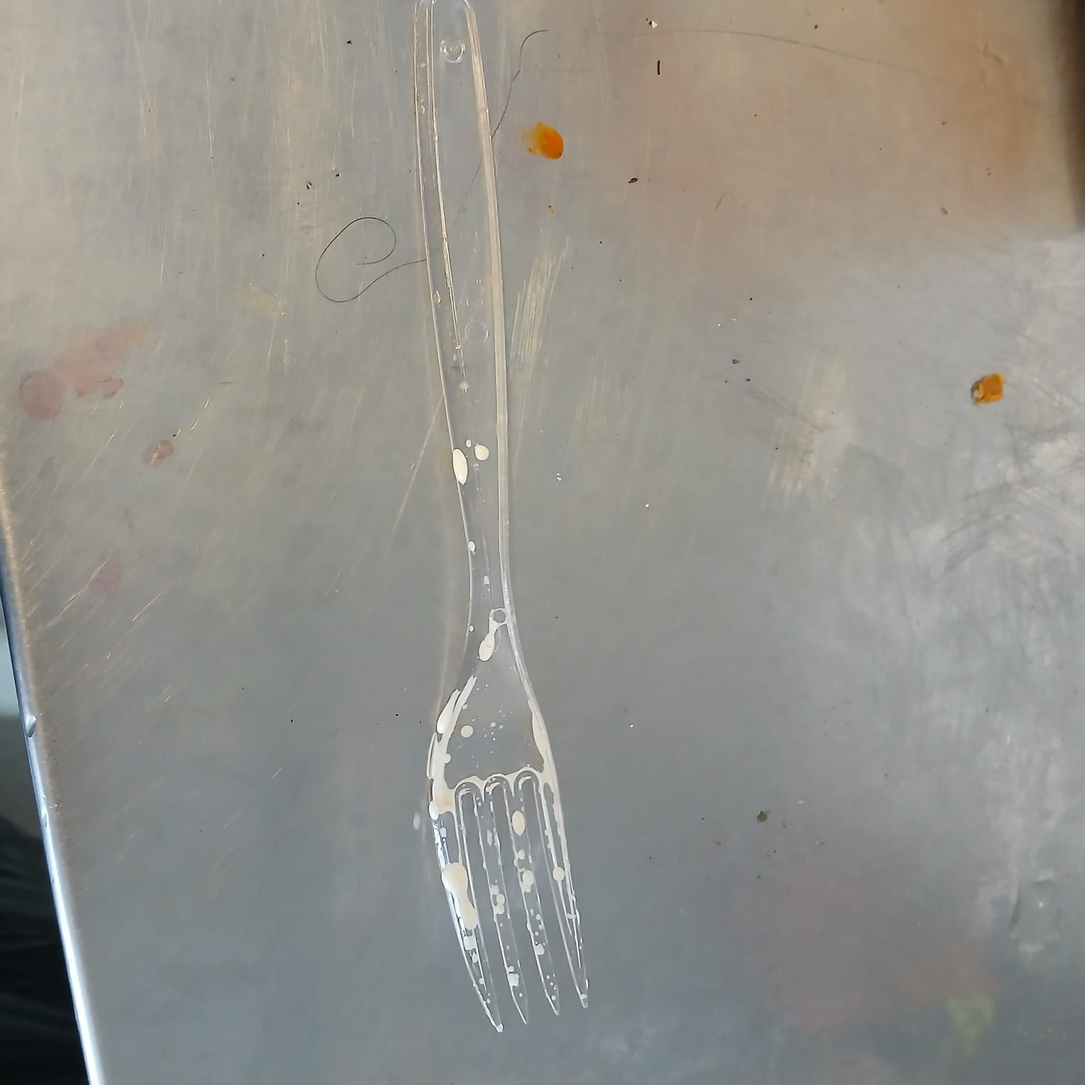Ordinario: (406, 0, 593, 1034)
